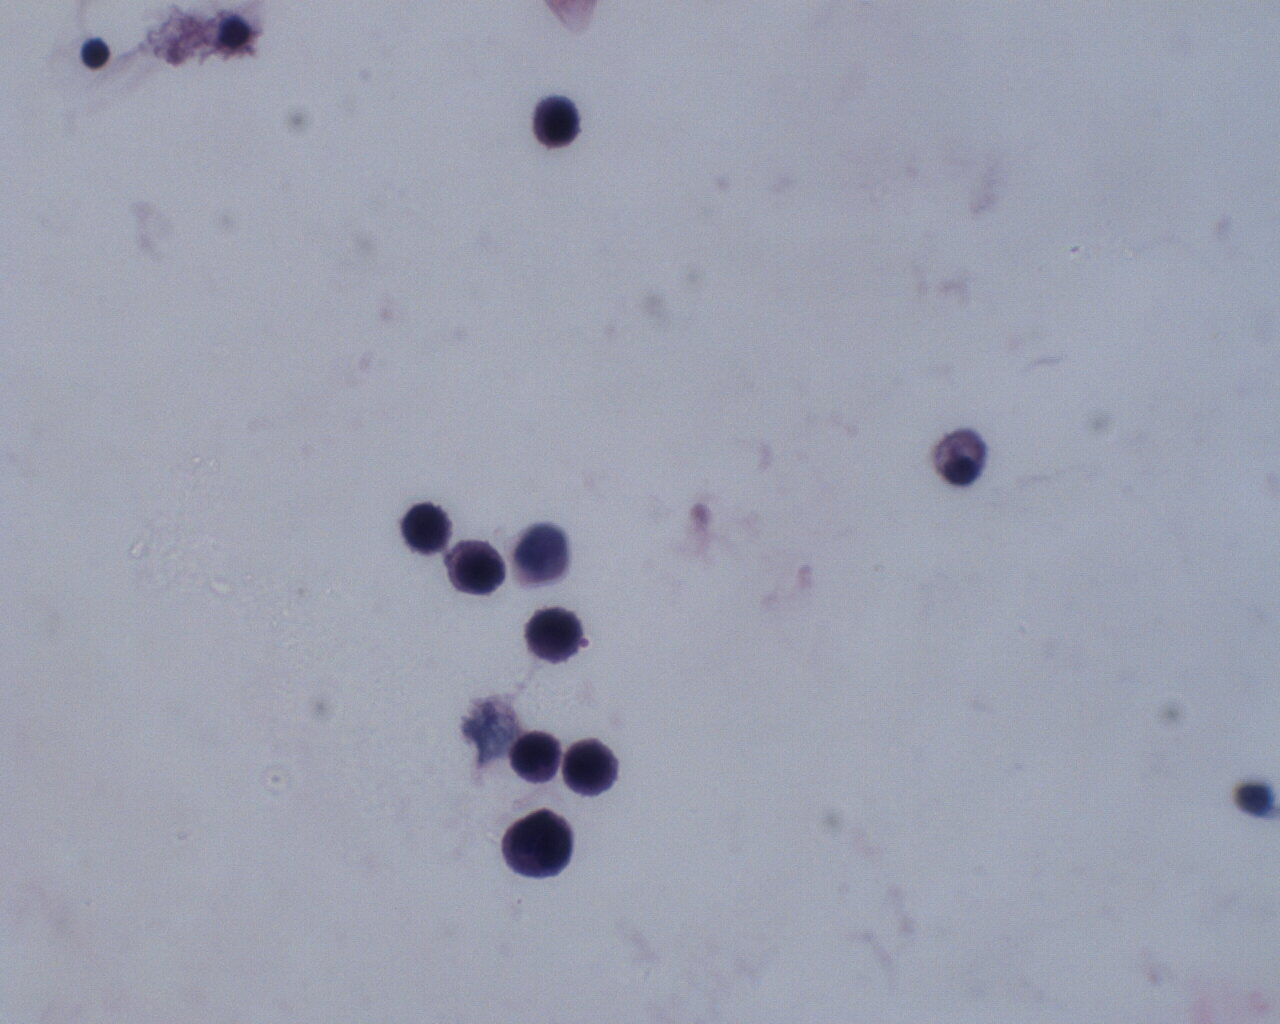ab: (501, 802, 578, 880), (561, 731, 621, 800), (446, 535, 509, 598), (522, 604, 586, 666), (508, 728, 566, 787), (529, 91, 584, 153), (399, 498, 452, 557)
lymph: (76, 31, 117, 76)
meso: (930, 422, 991, 489)
